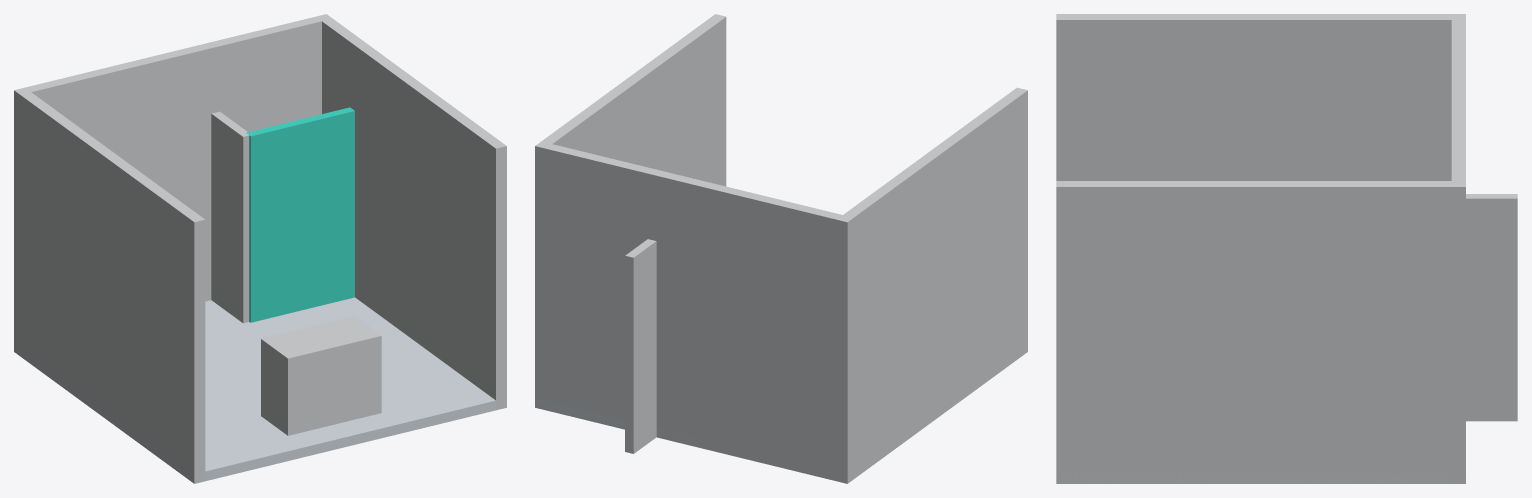
The picture shows the model from 3 angles, left to right: view 1: azimuth 30°, elevation 25°; view 2: azimuth 150°, elevation 25°; view 3: azimuth 270°, elevation 25°; orthographic projection. The views are drawn at different scales.
Visible parts, largest first — view 1: Exhibition Booth Concept; view 2: Exhibition Booth Concept; view 3: Exhibition Booth Concept.
Boxes of the visible parts, x1,y1,x2,y2 form: Exhibition Booth Concept: (14, 14, 506, 483); Exhibition Booth Concept: (535, 14, 1027, 483); Exhibition Booth Concept: (1056, 14, 1517, 483).
Size of the model in its own units: 4 by 3.2 by 4.51.
